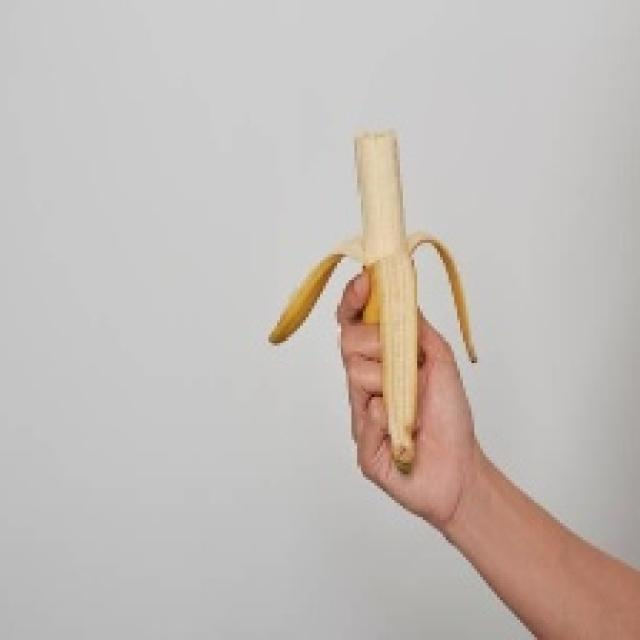Banana: (266, 128, 477, 472)
